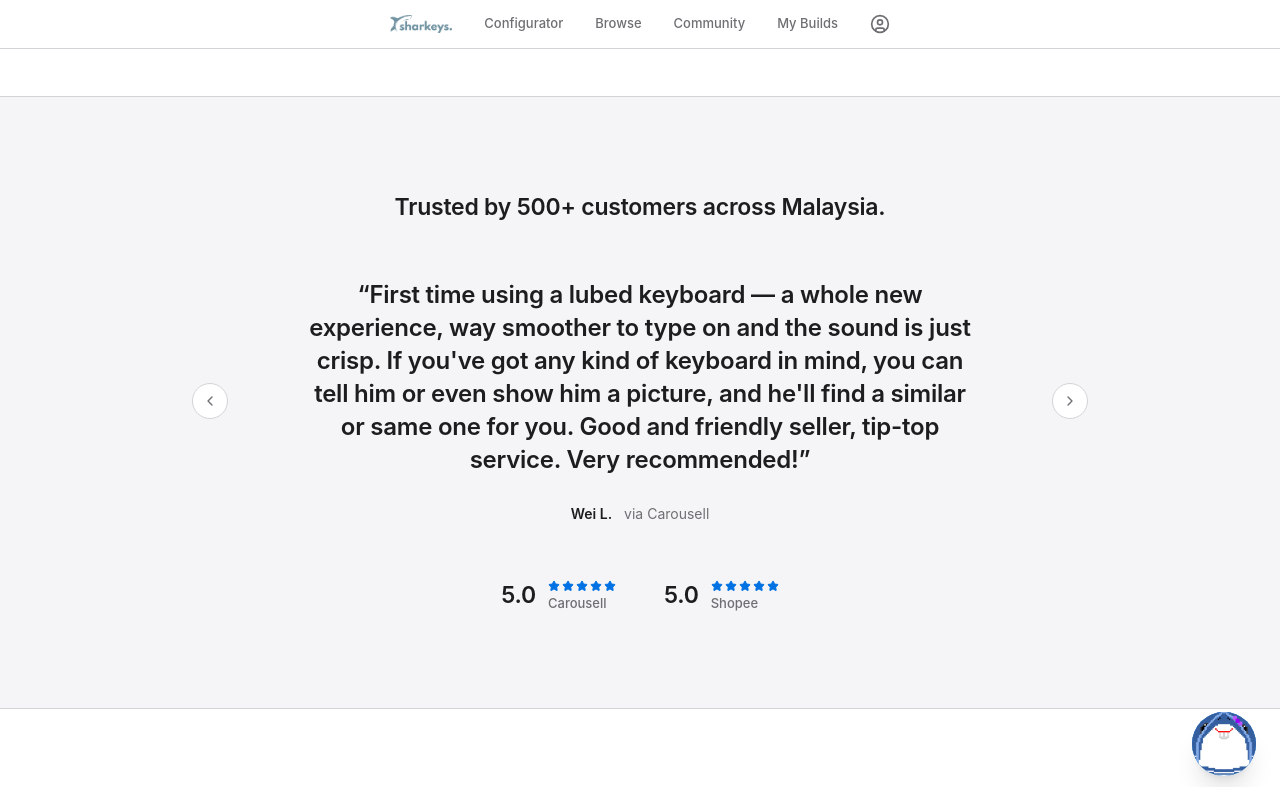
Scenario: landing customer reviews section › steps through reviews with wrap-around arrows
(page scrolled)
Prev wraps backward to the last review.
Click the button named "Previous review". click: (210, 401)
box: [192,383,228,419]
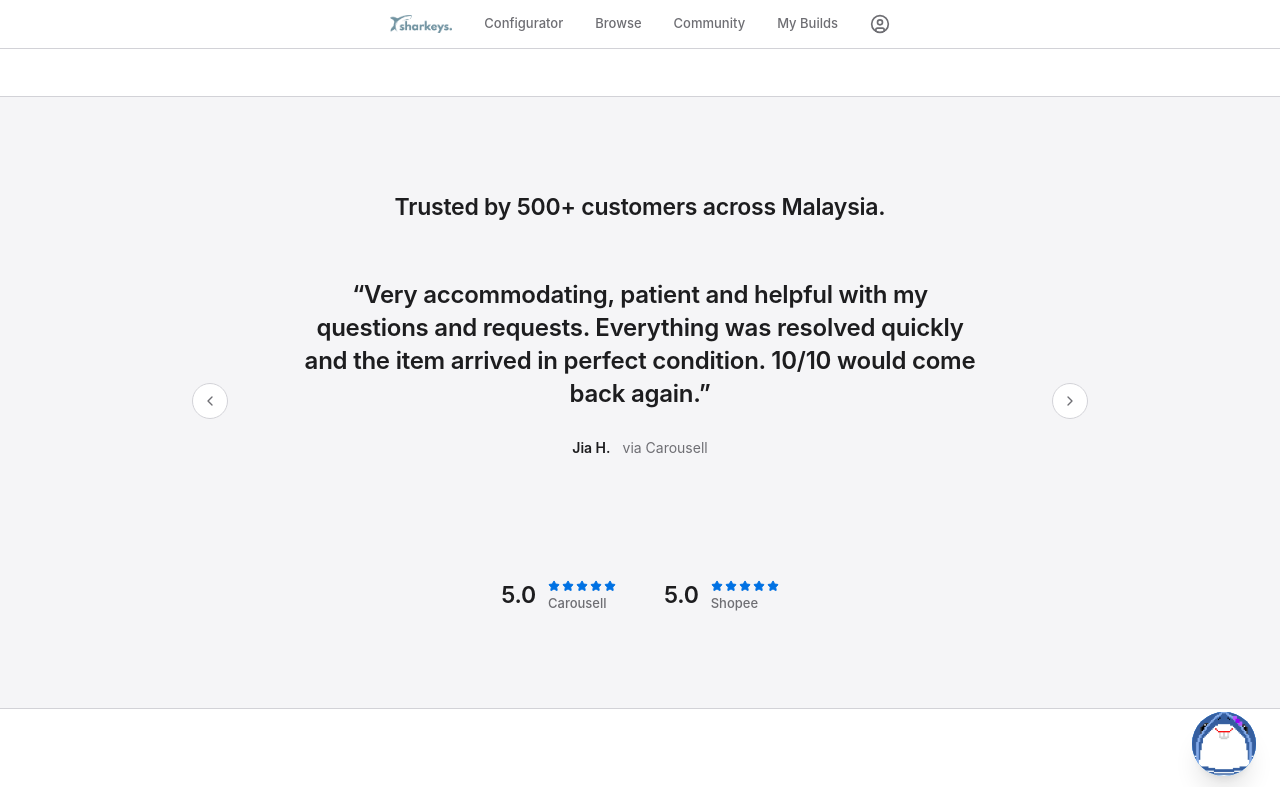
Check: the text "Jia H." is shown, box [572,438,611,458]
Next wraps forward to the first again.
Click the button named "Next review". click: (1070, 401)
box: [1052,383,1088,419]
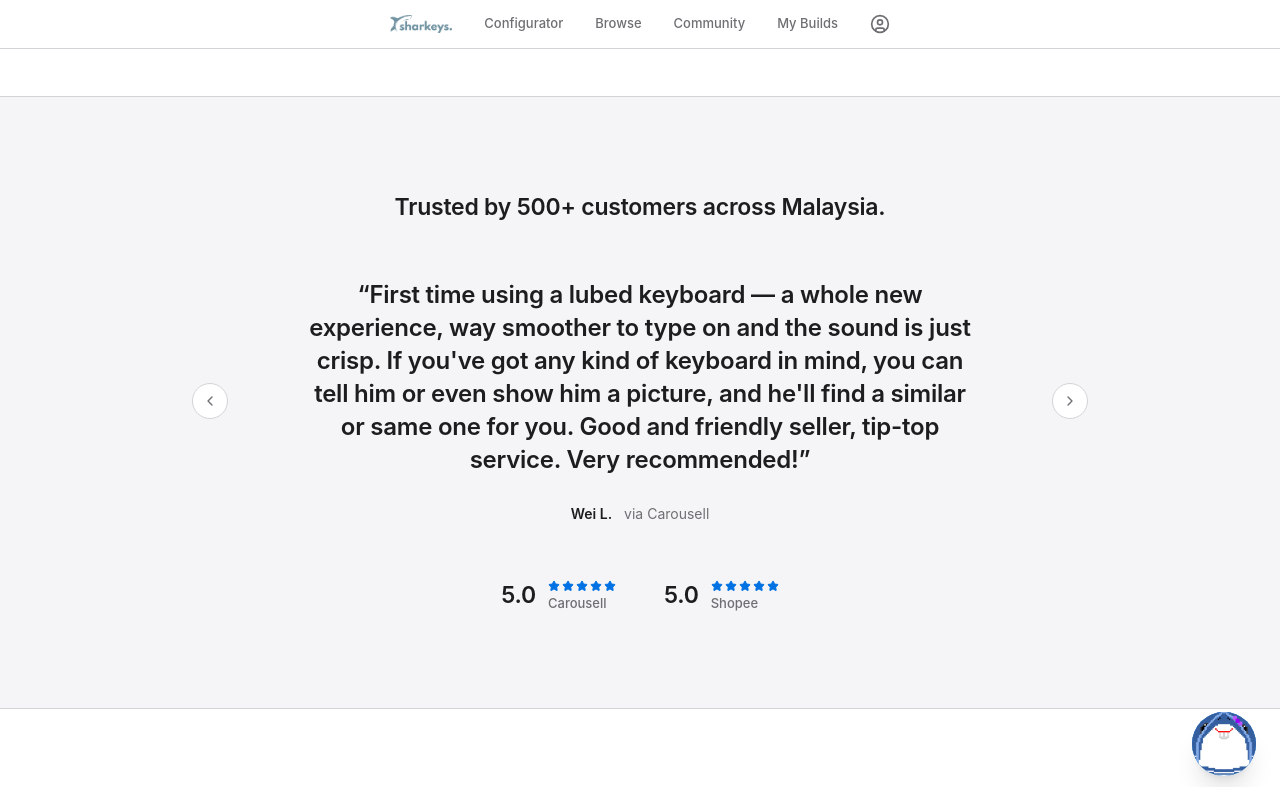
Check: the text "Wei L." is shown, box [571,504,612,524]
Click the button named "Next review". click: (1070, 401)
box: [1052,383,1088,419]
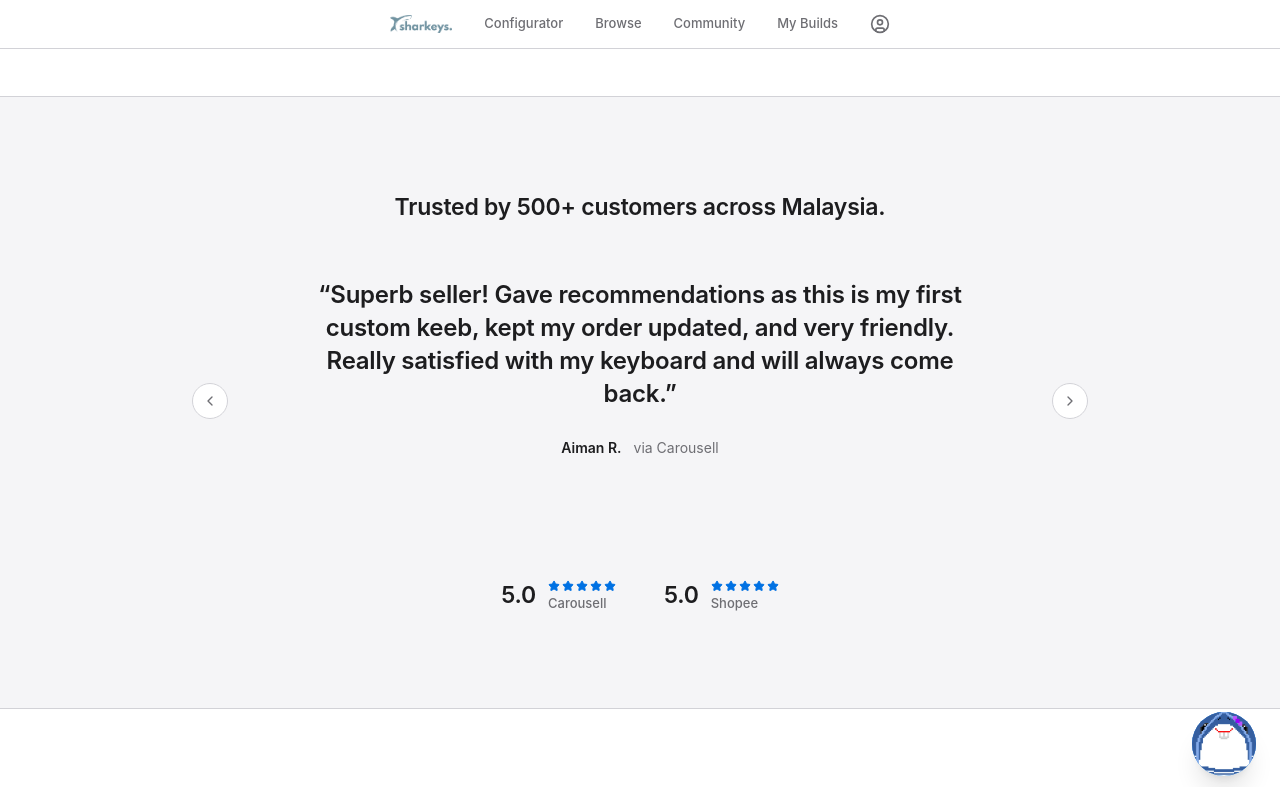
Check: the text "Aiman R." is shown, box [561,438,622,458]
